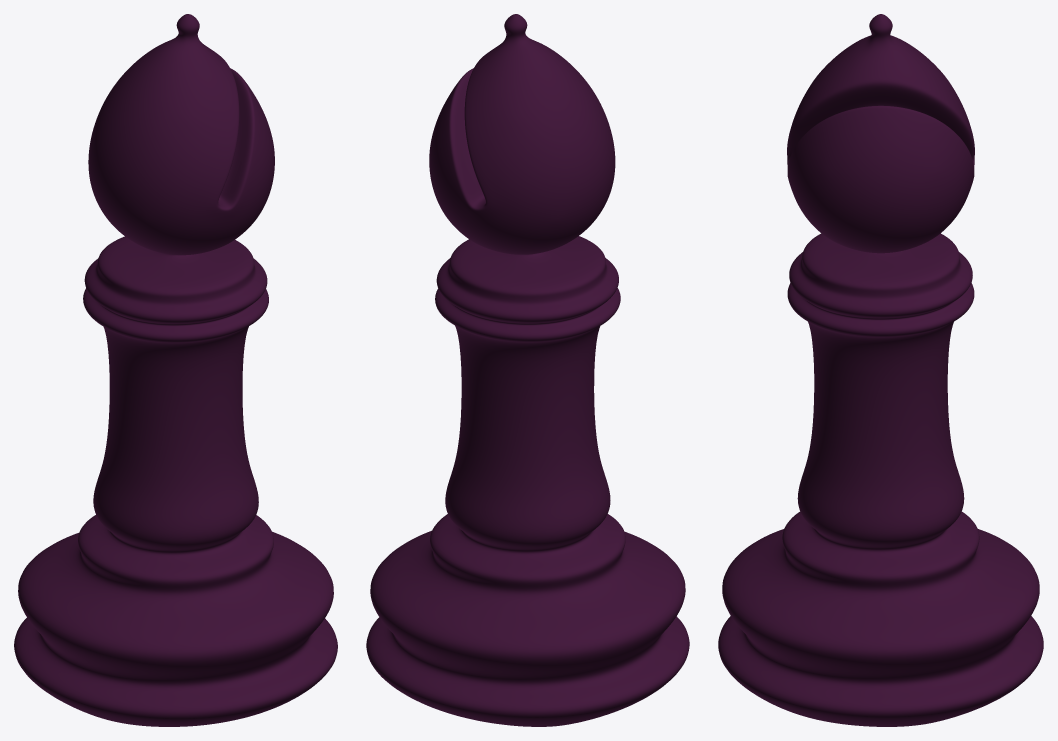
Rendered from Bishop_SpaceOdyssey.fbx.
3 views of the same model, side by side, from view 1: azimuth 30°, elevation 25°; view 2: azimuth 150°, elevation 25°; view 3: azimuth 270°, elevation 25° (orthographic).
Visible parts, largest first — view 1: Bishop; view 2: Bishop; view 3: Bishop.
Part boxes in pixels (<box>): Bishop: <box>14,14,337,726</box>; Bishop: <box>366,14,689,726</box>; Bishop: <box>718,14,1043,726</box>.
Bounding box in the file's own units: 174 × 400 × 174.
